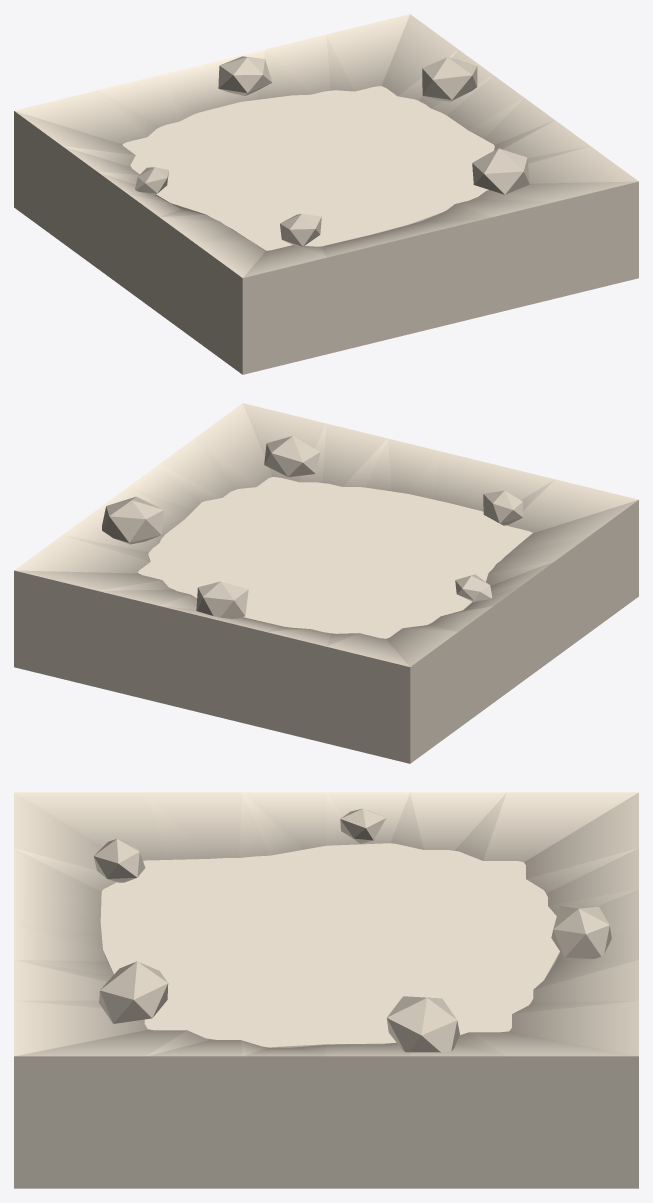
Rendered from SM_VKI_Pit_Pool_300x300.fbx.
The picture shows the model from 3 angles, top to bottom: view 1: azimuth 30°, elevation 25°; view 2: azimuth 150°, elevation 25°; view 3: azimuth 270°, elevation 25°; orthographic projection. The views are drawn at different scales.
Visible parts, largest first — view 1: SM_VKI_Pit_Pool_300x300.001; view 2: SM_VKI_Pit_Pool_300x300.001; view 3: SM_VKI_Pit_Pool_300x300.001.
Boxes of the visible parts, left/top/right/bottom form: SM_VKI_Pit_Pool_300x300.001: left=14, top=14, right=638, bottom=374; SM_VKI_Pit_Pool_300x300.001: left=14, top=403, right=638, bottom=763; SM_VKI_Pit_Pool_300x300.001: left=14, top=792, right=638, bottom=1188.
Size of the model in its own units: 3 by 0.8685 by 3.
